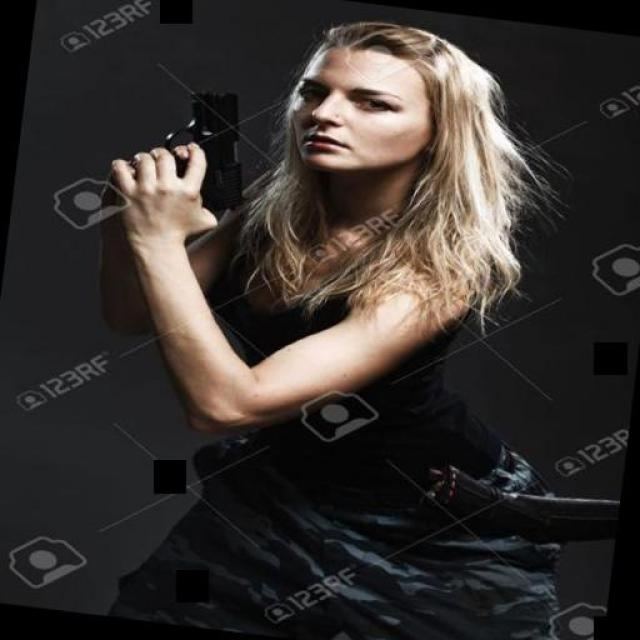gun: (119, 65, 269, 224)
